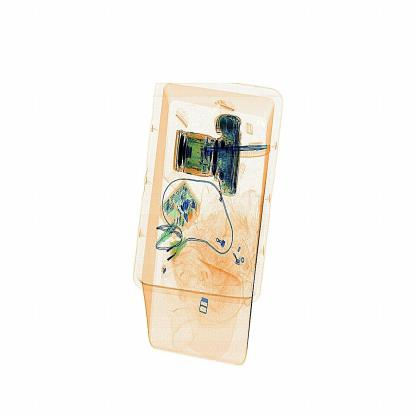pliers: (210, 142, 270, 158)
